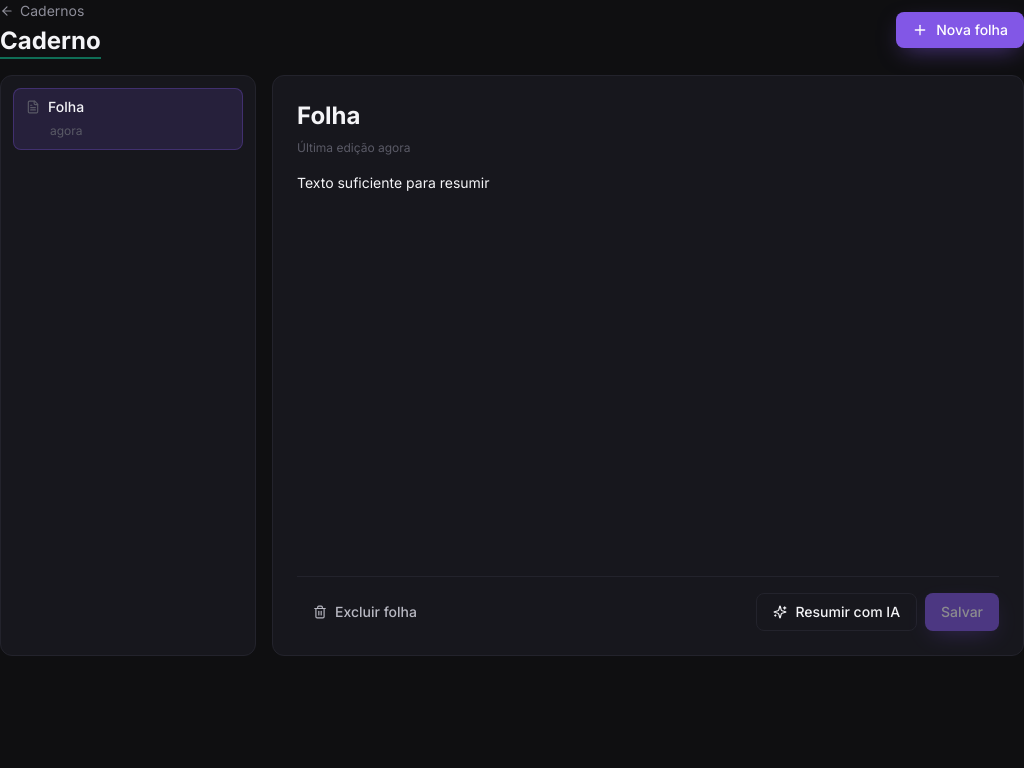
Test: NotebookDetailPage › Resumir com IA abre modal com summary
Expected: the field named "Título da folha" holds "Folha", [297,100,999,132]
Step 1. Click the button "Resumir com IA" → (837, 612), box [756,593,917,631]
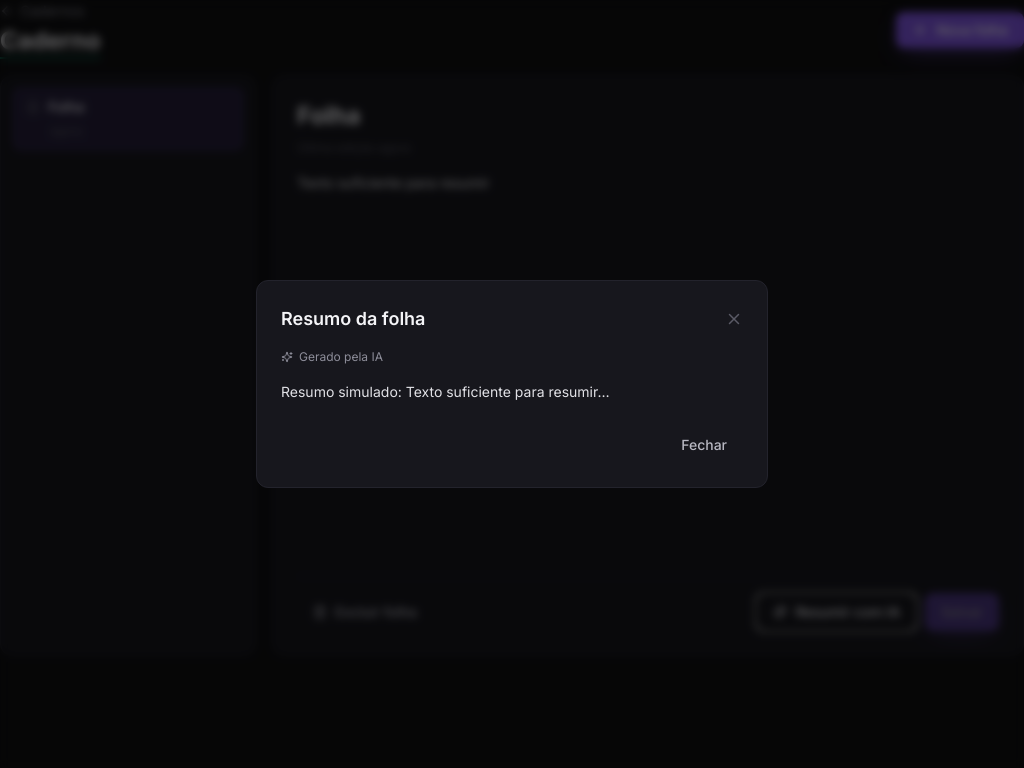
Expected: the text "Resumo simulado: Texto suficiente para resumir…" is shown, [281,383,610,400]
